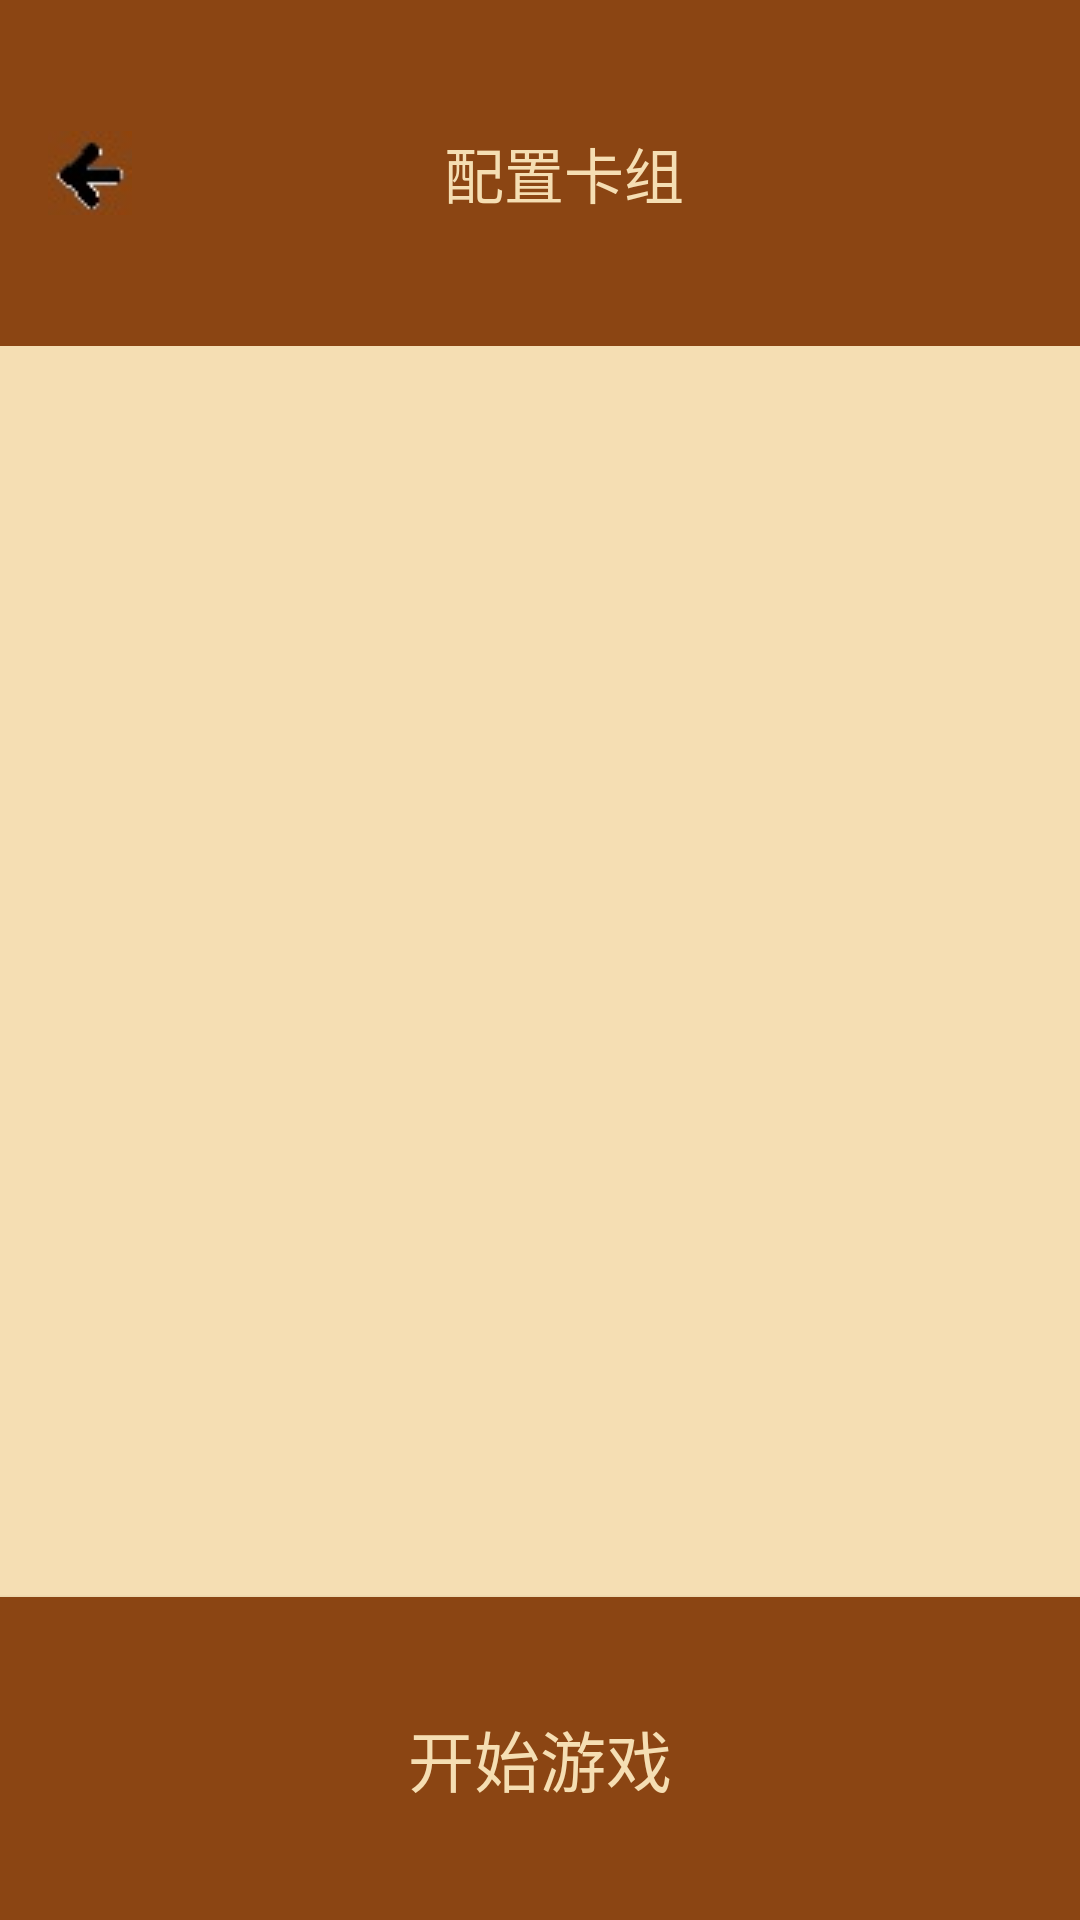

Icons on this 1080*1920 Android screen, each with the point to tap as [x,y]:
返回: [90,176]
